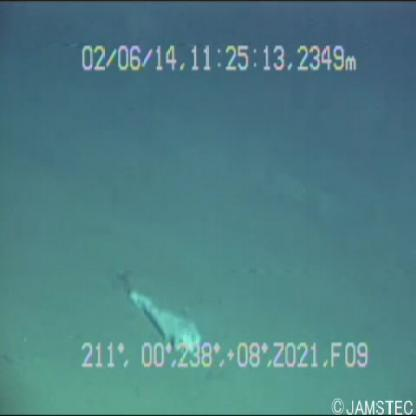Rác: (116, 271, 210, 356)
